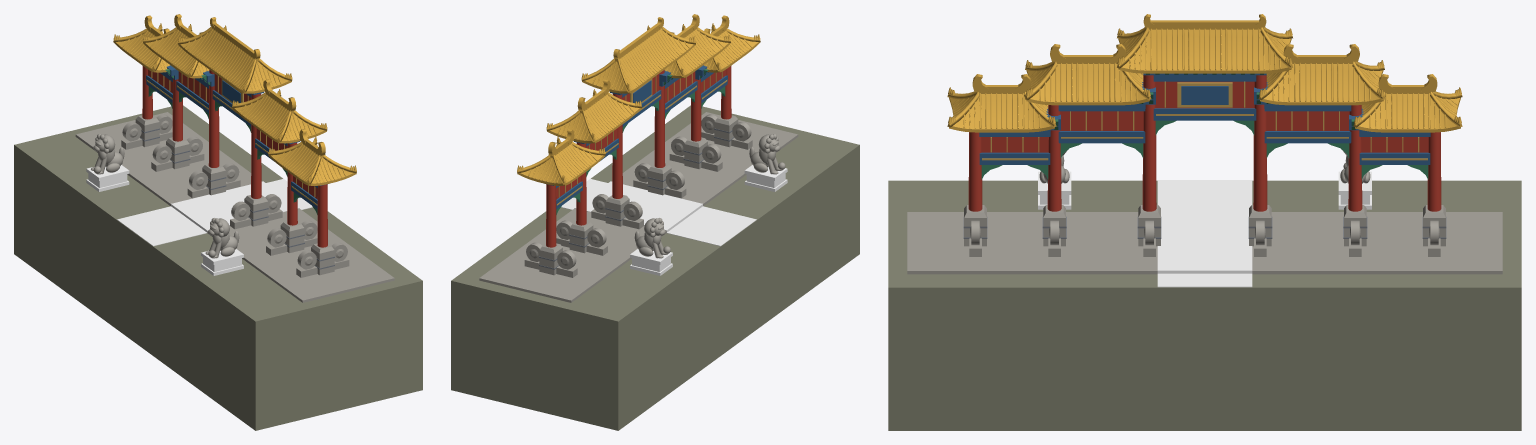
File: top-prebuilt_close.fbx
The picture shows the model from 3 angles, left to right: view 1: azimuth 30°, elevation 25°; view 2: azimuth 150°, elevation 25°; view 3: azimuth 270°, elevation 25°; orthographic projection. The views are drawn at different scales.
Parts seen in each view (by area): view 1: landmark-grand_paifang/0/top-prebuilt_close; view 2: landmark-grand_paifang/0/top-prebuilt_close; view 3: landmark-grand_paifang/0/top-prebuilt_close.
Boxes of the visible parts, x1,y1,x2,y2 form: landmark-grand_paifang/0/top-prebuilt_close: [14, 14, 422, 430]; landmark-grand_paifang/0/top-prebuilt_close: [451, 14, 859, 430]; landmark-grand_paifang/0/top-prebuilt_close: [888, 14, 1521, 430].
Bounding box in the file's own units: 16 × 26 × 40.
